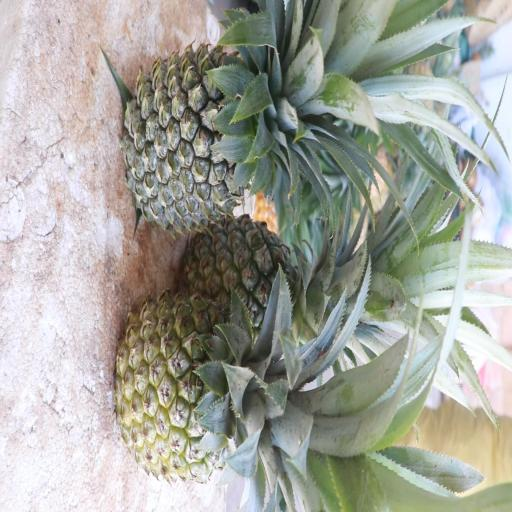------------------------------: (109, 278, 344, 483), (179, 206, 366, 346)
